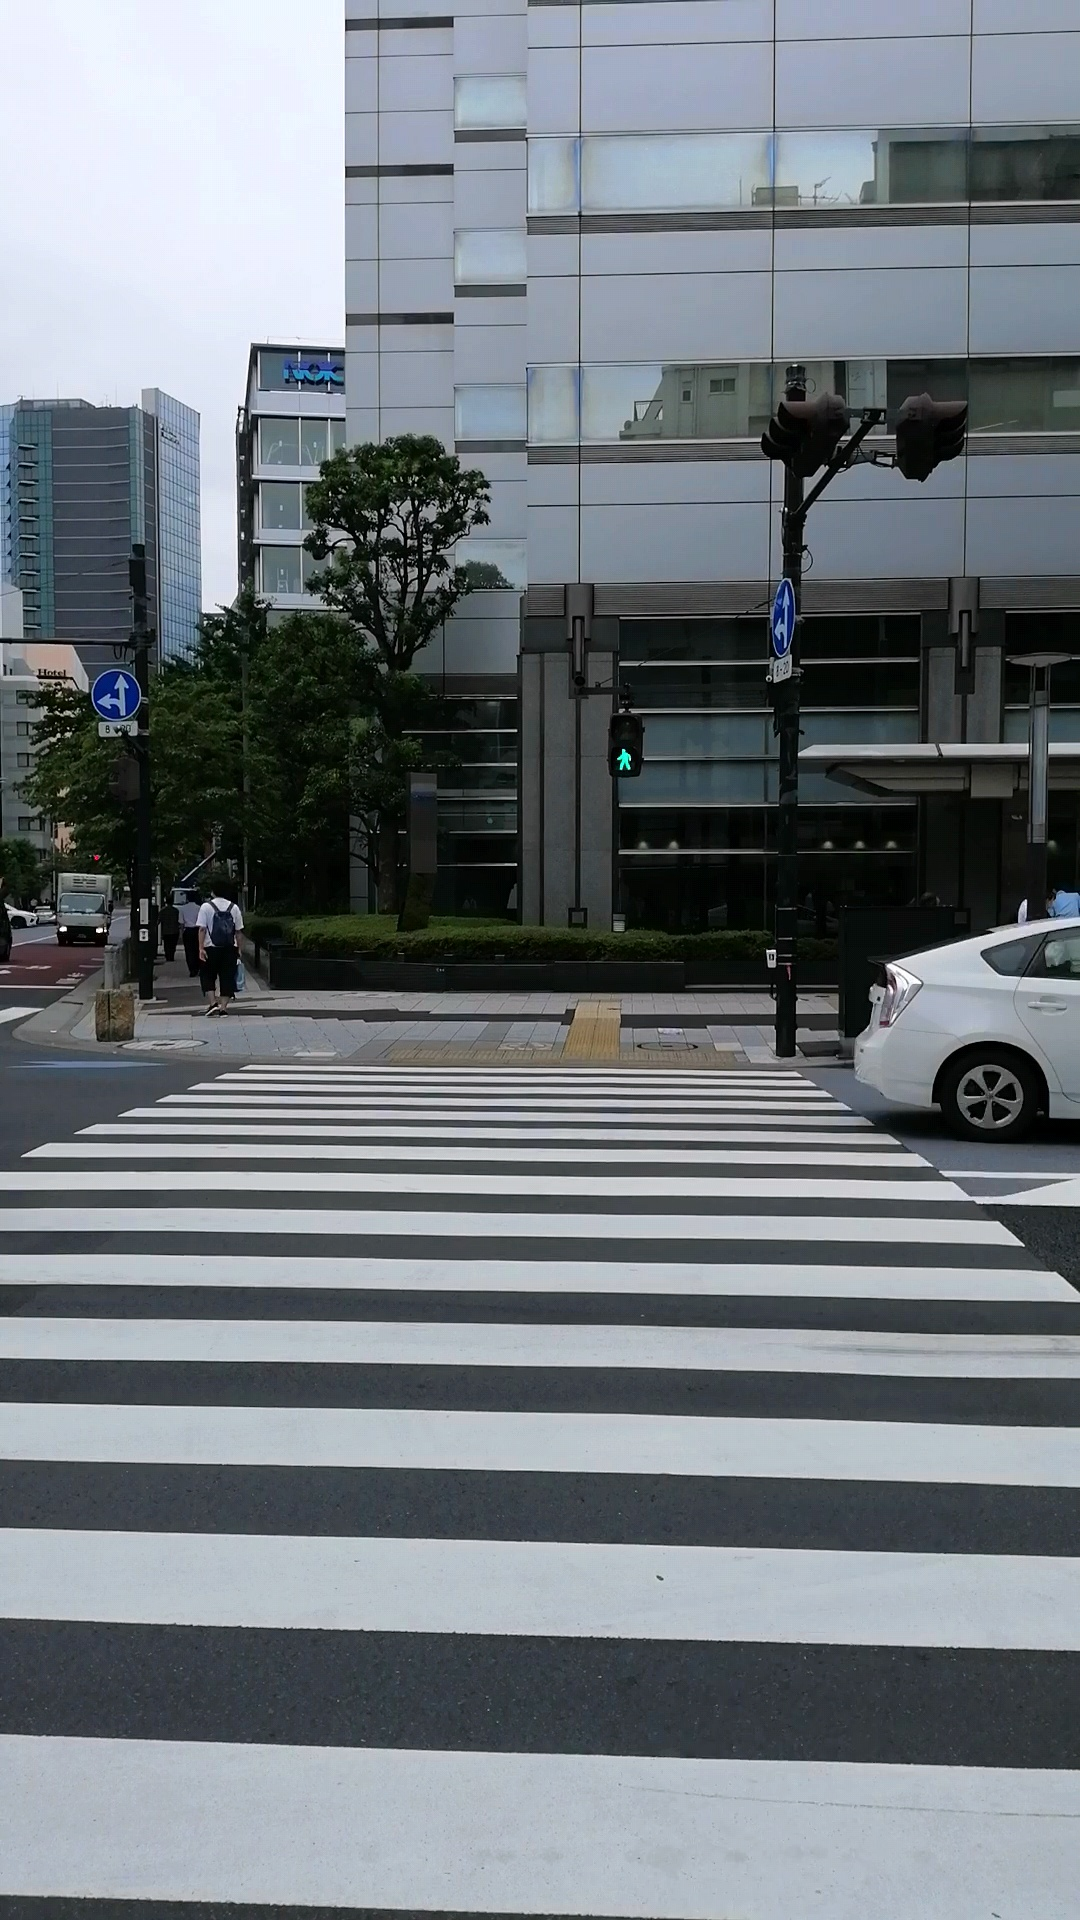green: (607, 713, 644, 778)
